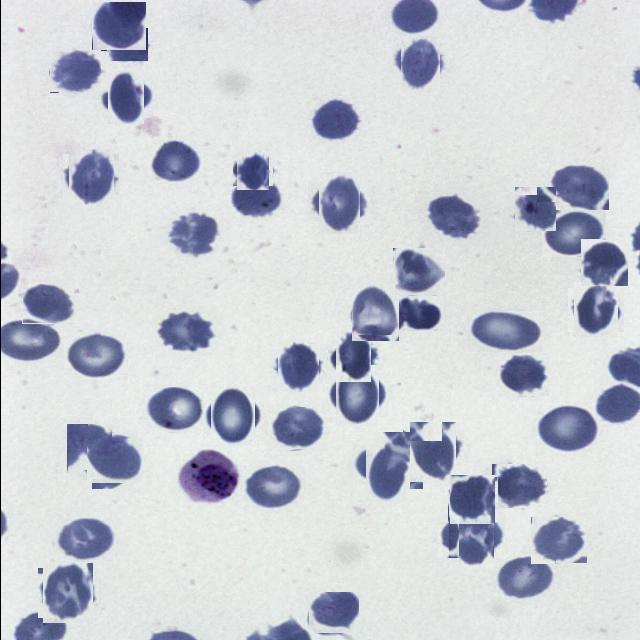difficult: (176, 448, 236, 505)
red blood cell: (358, 438, 416, 496), (534, 403, 599, 453), (442, 506, 498, 564), (465, 311, 542, 353), (40, 565, 95, 621), (63, 332, 127, 380), (541, 210, 605, 257), (493, 554, 555, 601), (406, 426, 459, 480), (548, 163, 608, 210), (142, 387, 203, 433), (330, 369, 383, 421), (205, 390, 258, 442), (349, 286, 401, 339), (155, 310, 217, 354), (312, 177, 364, 229), (53, 518, 114, 562), (243, 464, 302, 509), (91, 2, 145, 51), (530, 517, 586, 564), (64, 152, 116, 202), (89, 436, 140, 486), (268, 406, 324, 451), (66, 424, 111, 480), (423, 194, 480, 238), (570, 285, 620, 335), (393, 247, 443, 297), (164, 211, 218, 256), (491, 464, 546, 508), (149, 140, 202, 184), (48, 50, 100, 94), (448, 476, 496, 523), (396, 40, 443, 86), (307, 592, 358, 634), (274, 344, 320, 390), (580, 240, 626, 286), (309, 99, 360, 140), (228, 180, 283, 218), (21, 284, 73, 324), (498, 355, 548, 396), (102, 76, 148, 120), (330, 334, 374, 378), (512, 187, 556, 231), (105, 19, 147, 61), (398, 296, 443, 331), (233, 152, 270, 188)
